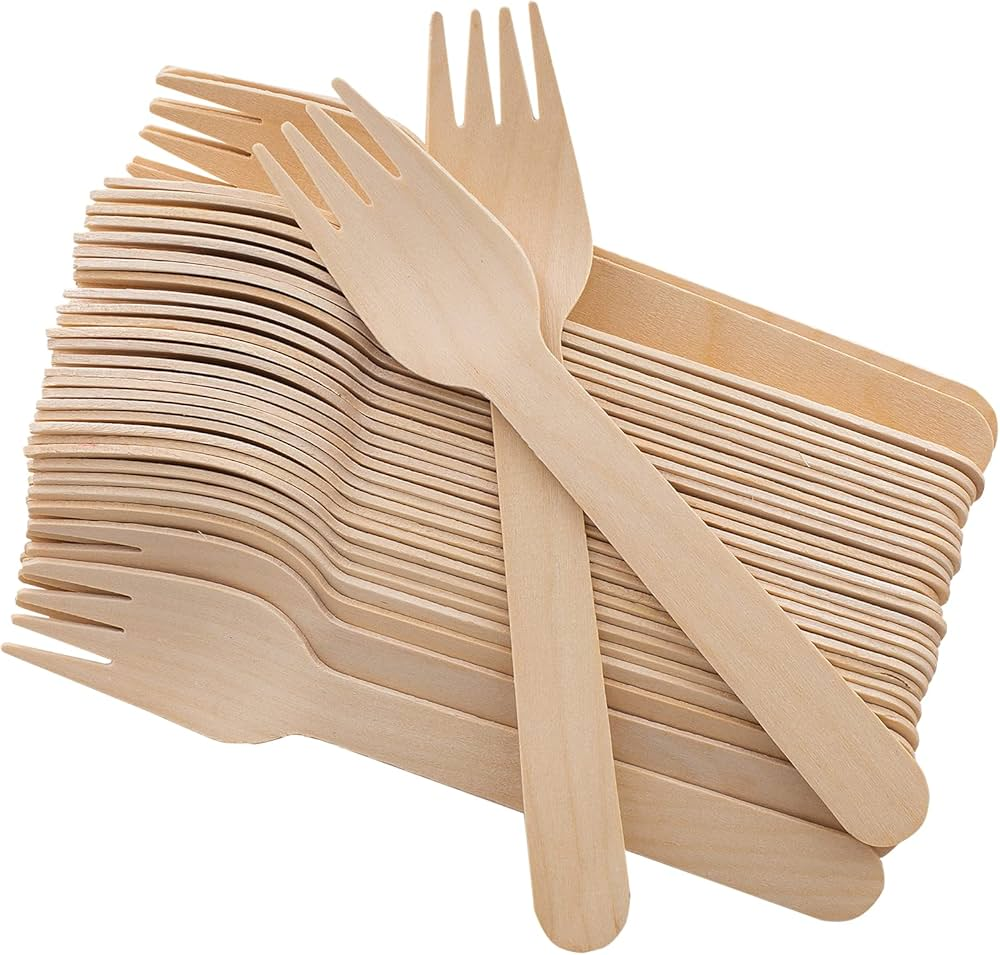Wooden Utensils: (78, 35, 988, 911)
